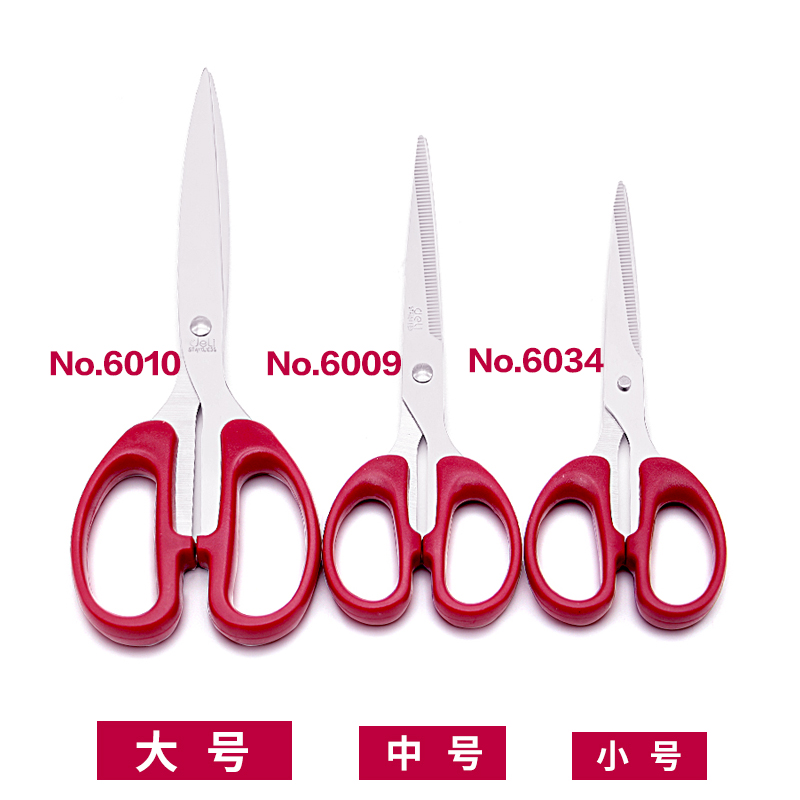scissors: (64, 62, 319, 651), (320, 126, 525, 636), (523, 174, 729, 636)
